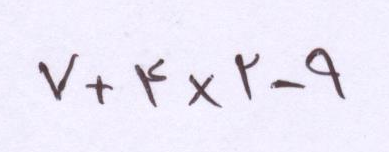character: (38, 53, 82, 110), (305, 47, 345, 104), (134, 58, 170, 109), (188, 74, 226, 116), (85, 75, 115, 113), (235, 53, 256, 104), (270, 79, 301, 89)
